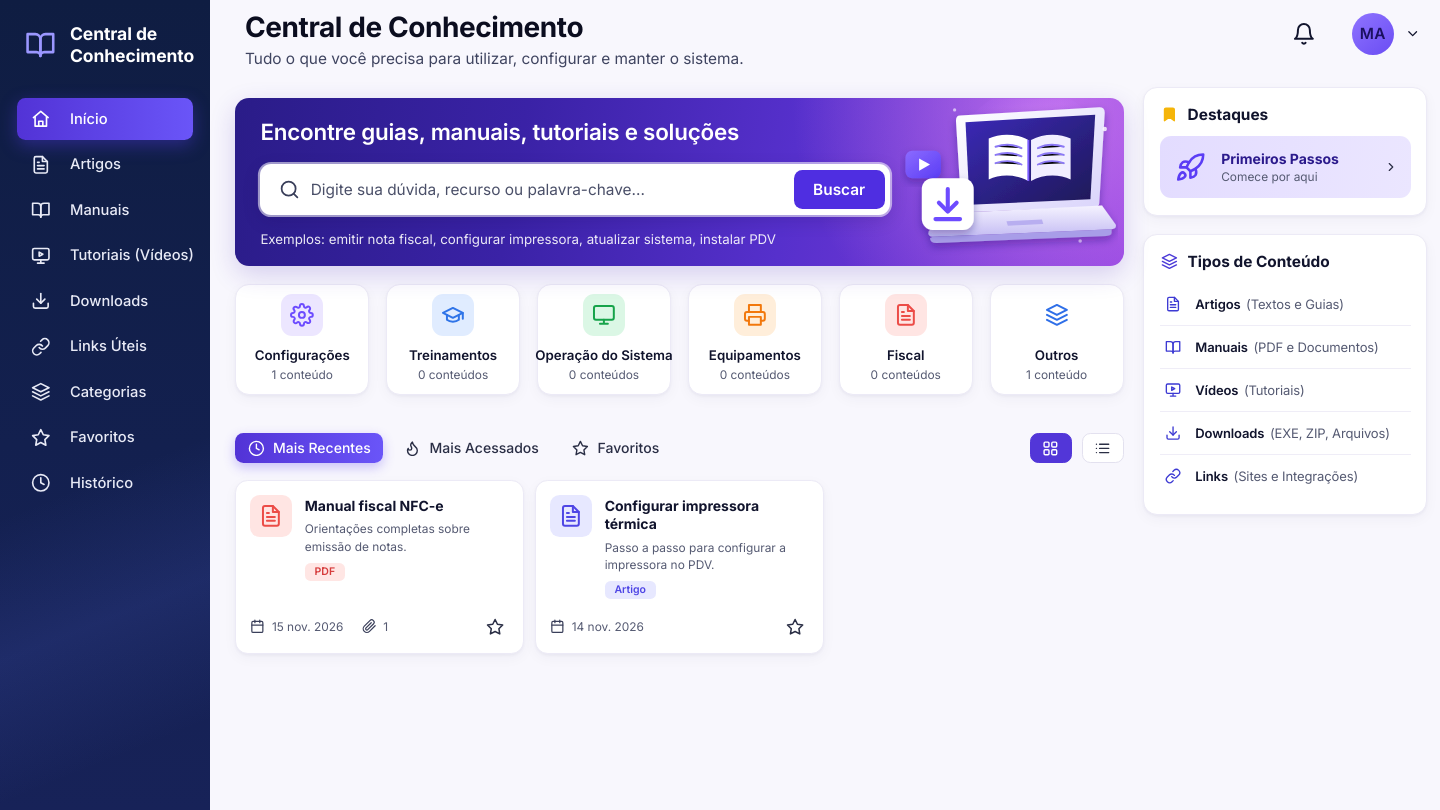
Central de Conhecimento › Primeiros Passos mostra estado vazio quando não há conteúdo marcado
Click the button "Primeiros Passos Comece por aqui" at (1285, 167), box x1=1160 y1=136 x2=1411 y2=198
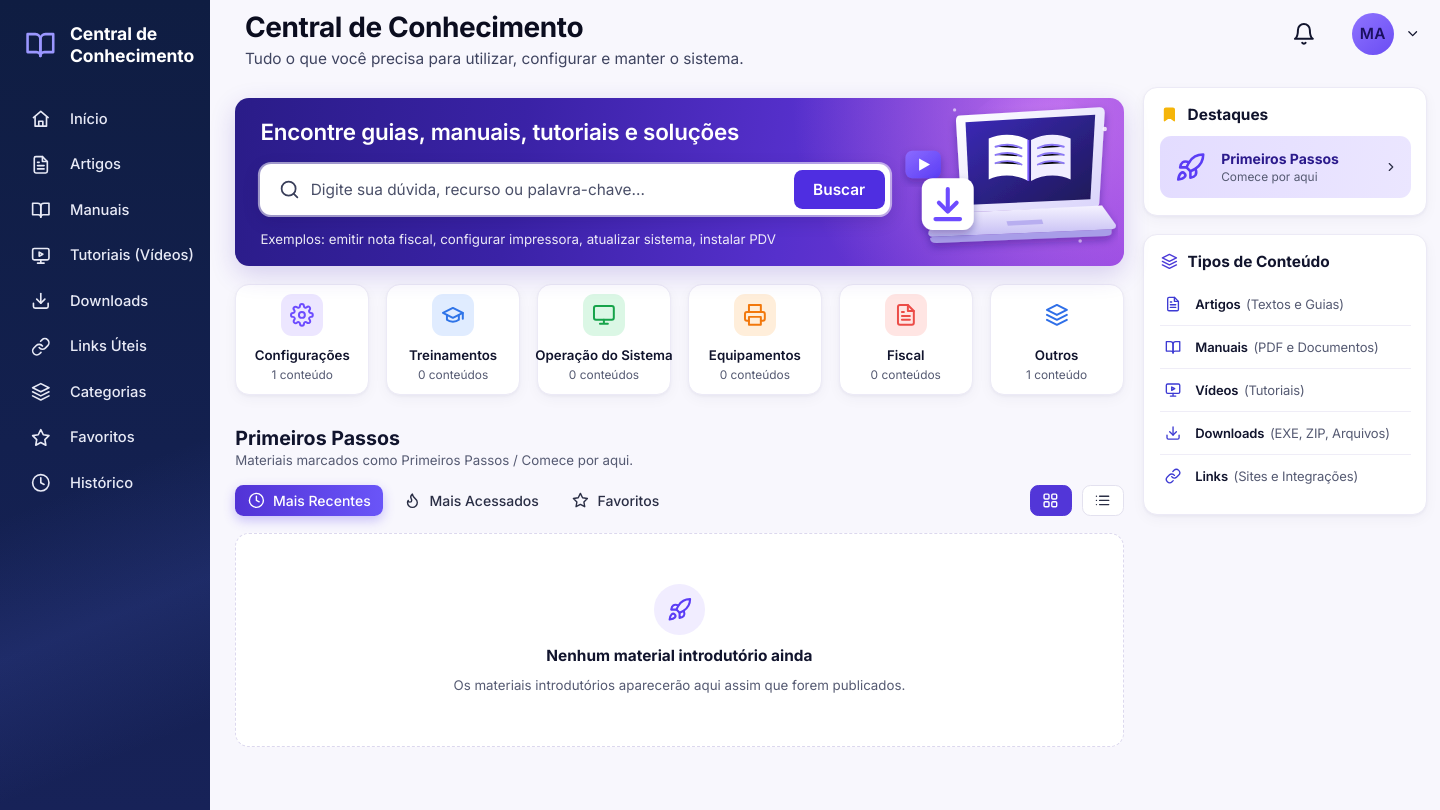
Expected: the text "Nenhum material introdutório ainda" is shown, x1=546 y1=646 x2=812 y2=665
